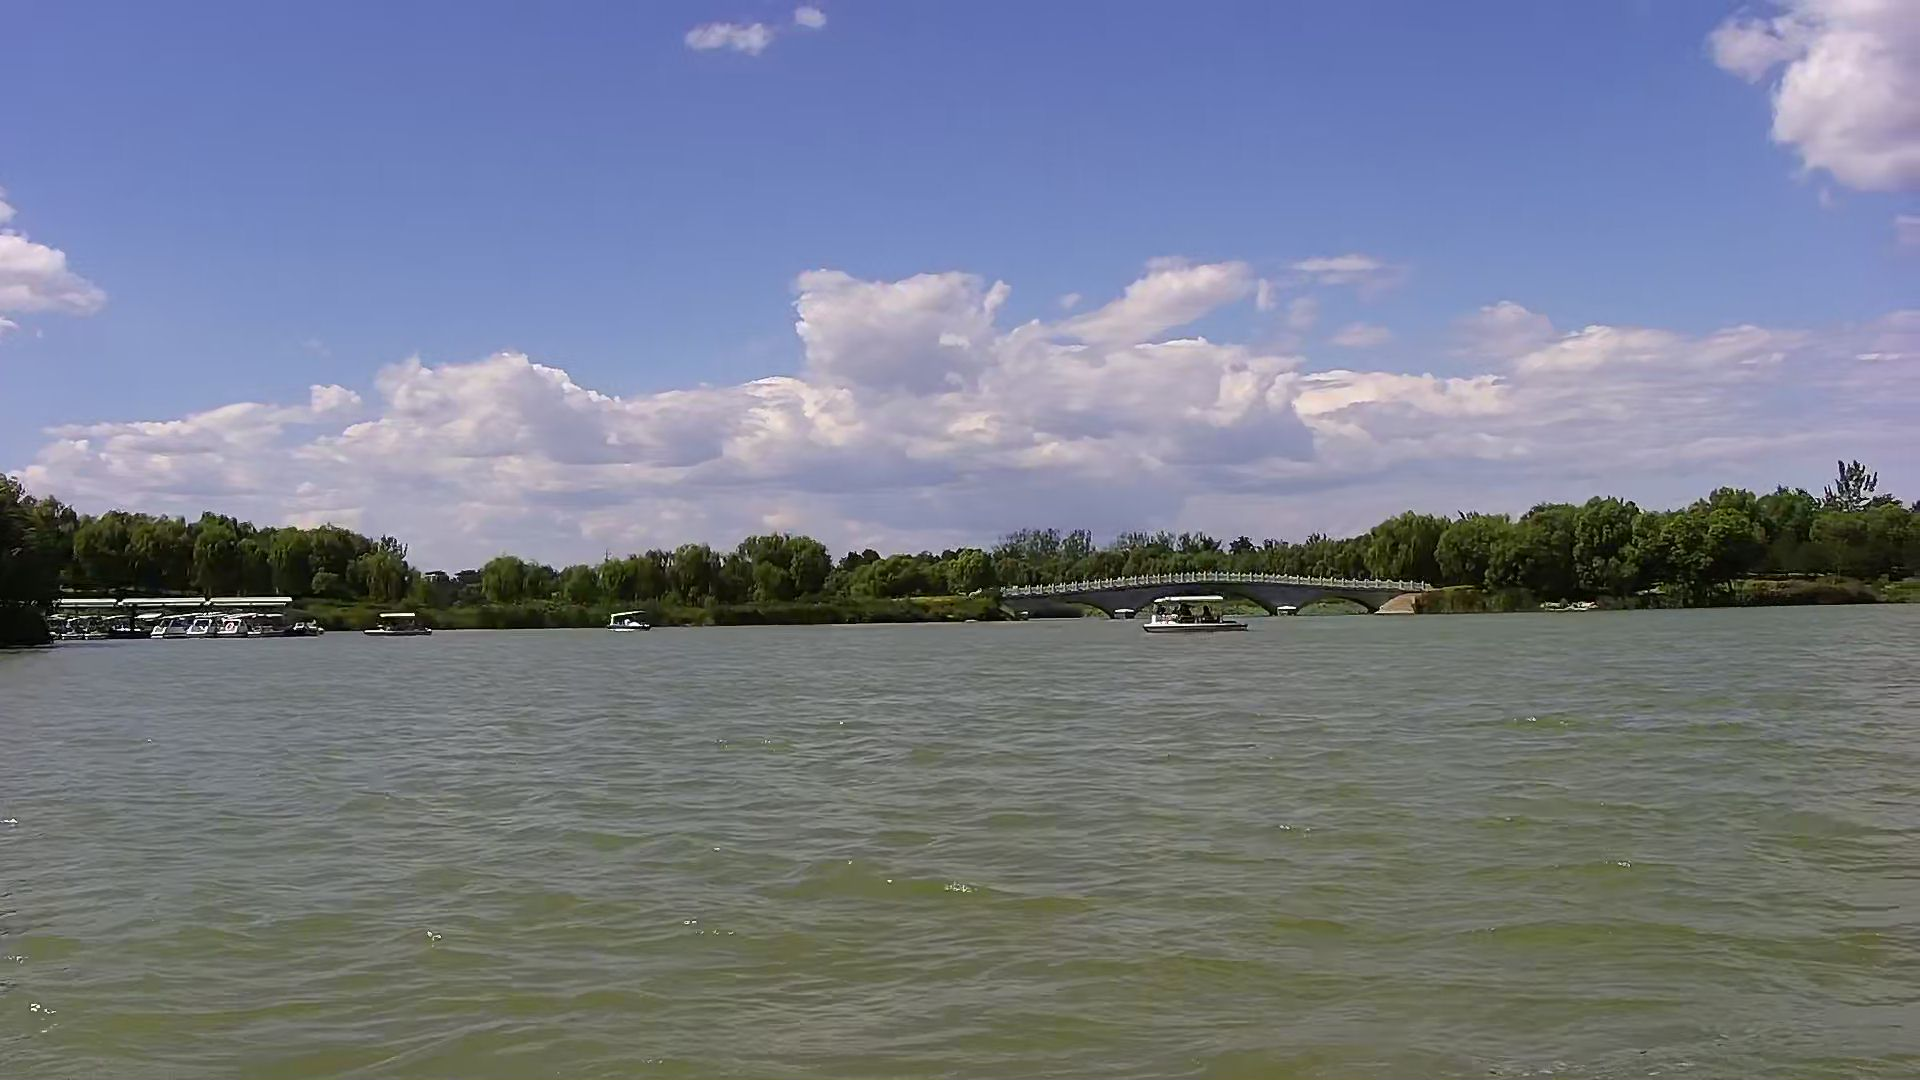boat: (1145, 589, 1244, 636), (357, 608, 444, 640), (597, 607, 653, 640)
bridge: (997, 566, 1431, 618)
